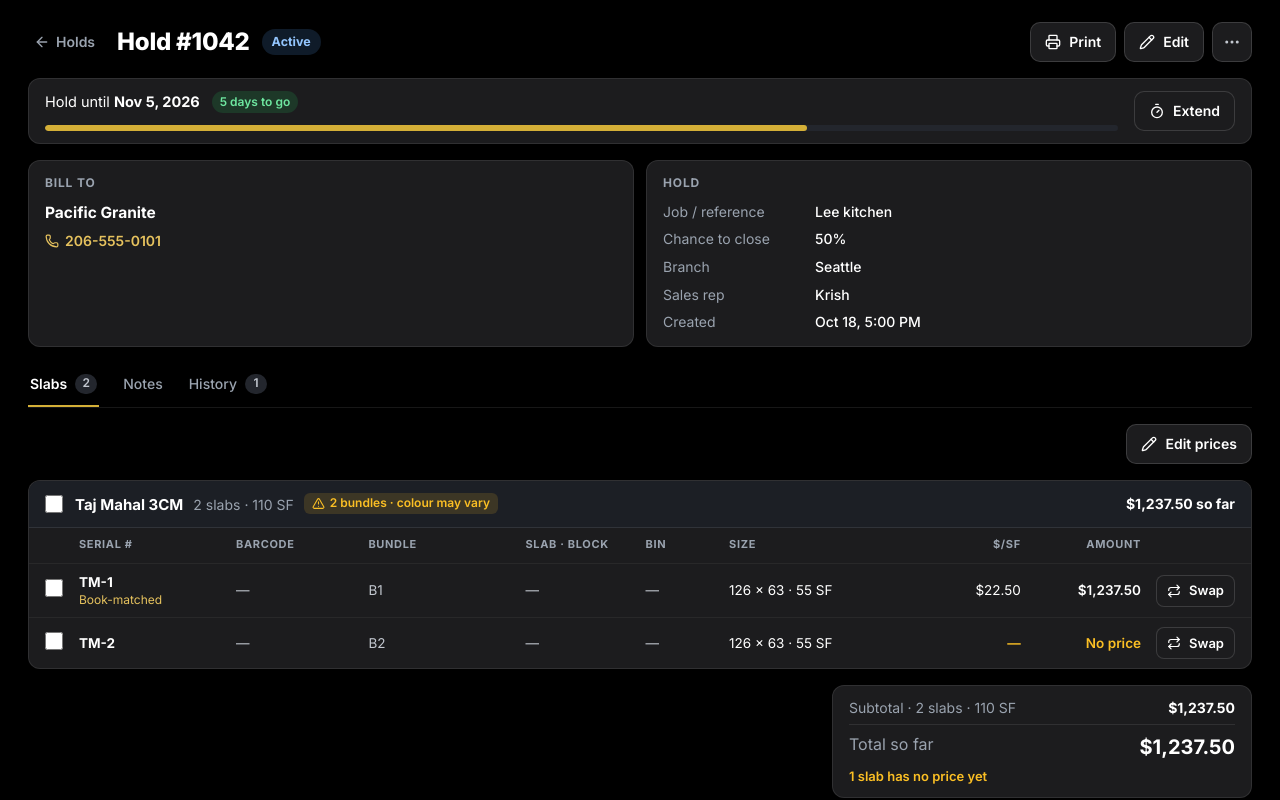
Test: A hold › shows its slabs, prices and totals, then its notes and history
Expected: the text "Book-matched" is shown, [79,592,162,606]
Expected: the text "Total so far" is shown, [849,733,934,761]
Click the tab "Notes": click(143, 385) [121,363,165,407]
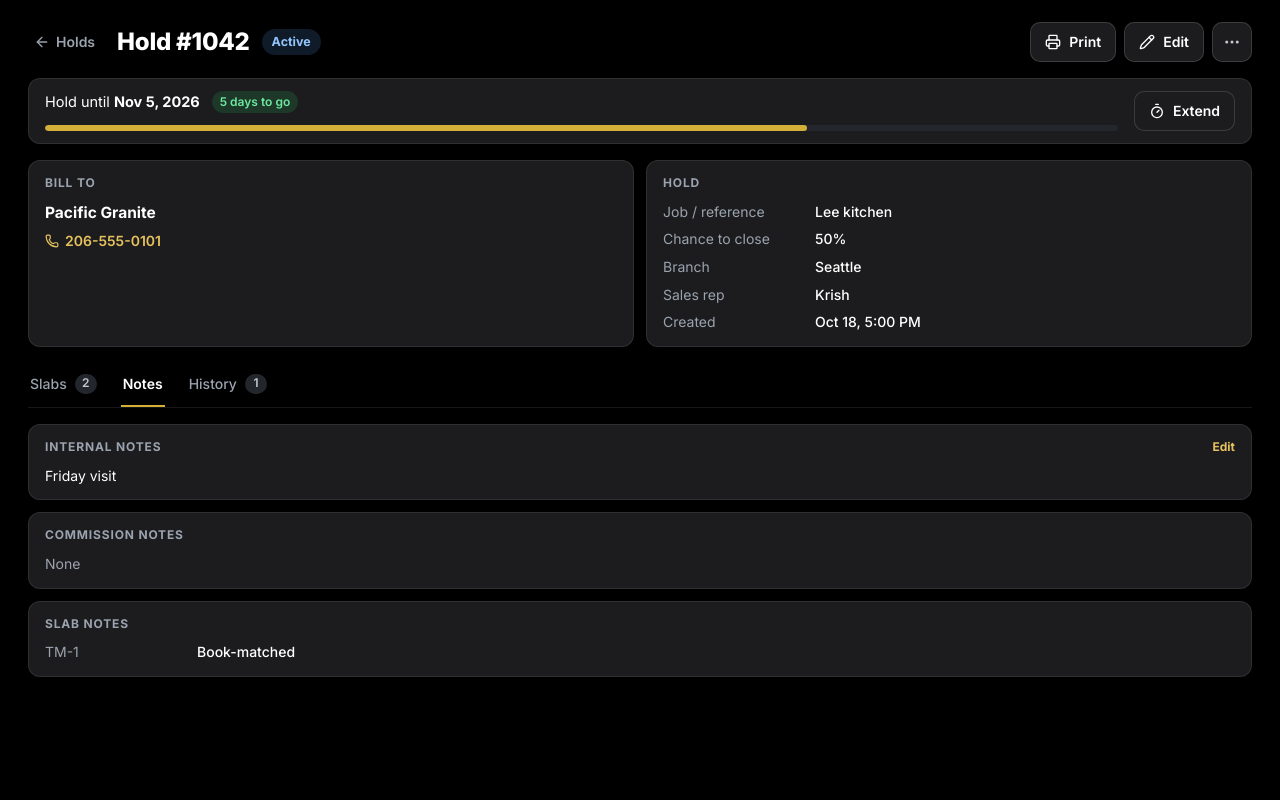
Expected: the text "Friday visit" is shown, [45,467,116,484]
Click the tab "History 1": click(228, 385) [187,363,269,407]
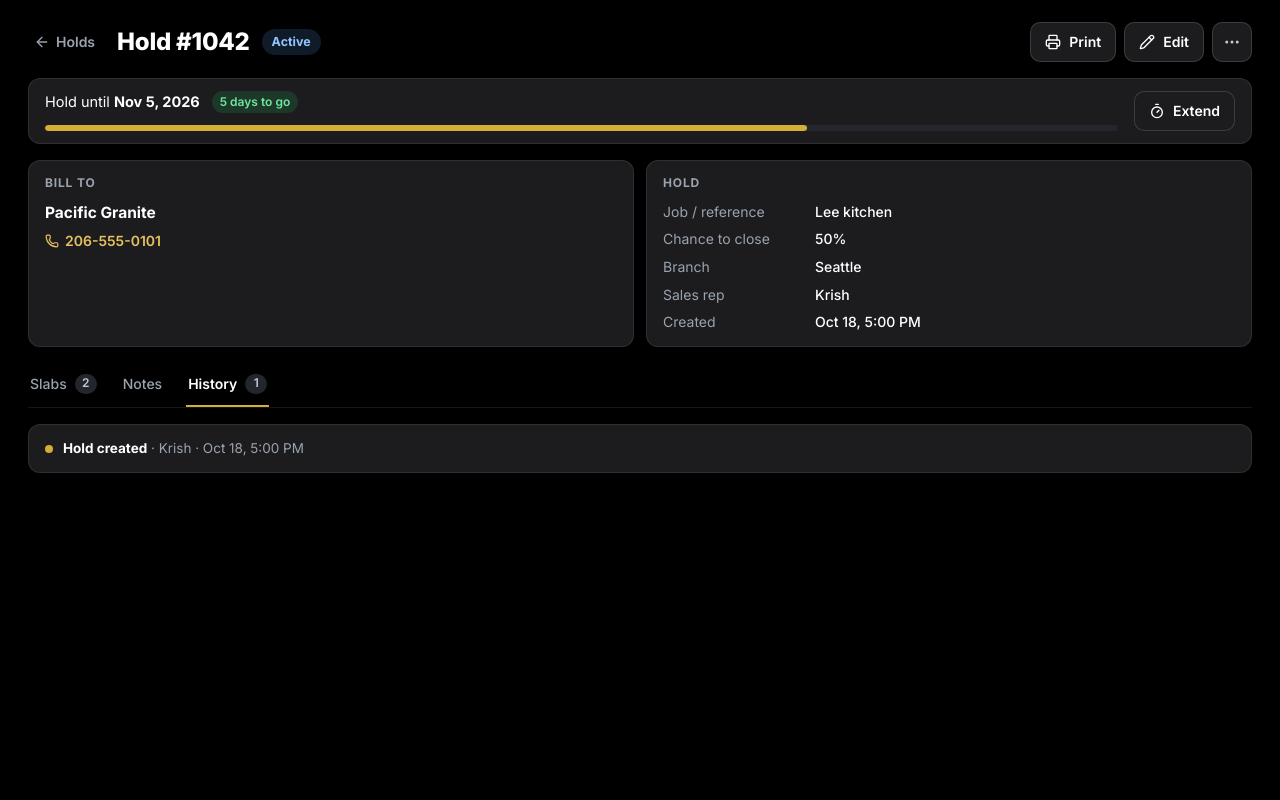
Expected: the text "· Krish · Oct 18, 5:00 PM" is shown, [147,440,304,456]
